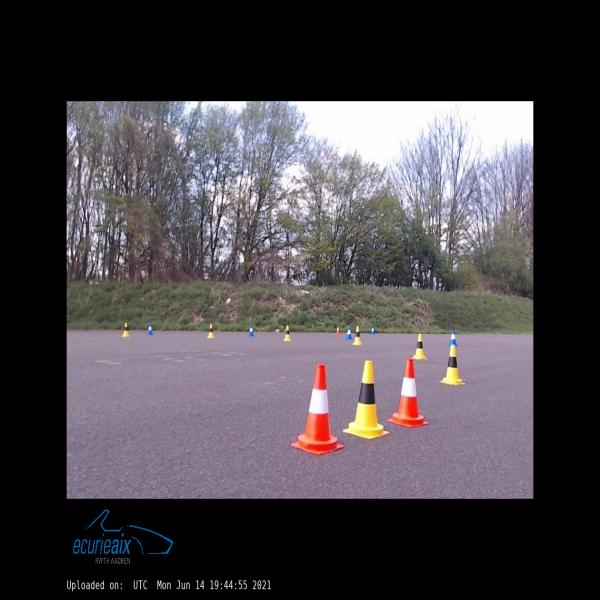blue_cone: (450, 330, 457, 346), (346, 326, 352, 339), (147, 323, 153, 335), (248, 324, 254, 336), (371, 325, 374, 334)
orange_cone: (291, 364, 344, 454), (387, 359, 429, 427), (336, 325, 340, 334)
yellow_cone: (343, 361, 389, 438), (439, 345, 465, 385), (412, 334, 426, 360), (352, 327, 362, 345), (283, 326, 292, 341), (122, 322, 130, 337), (207, 324, 215, 338)
